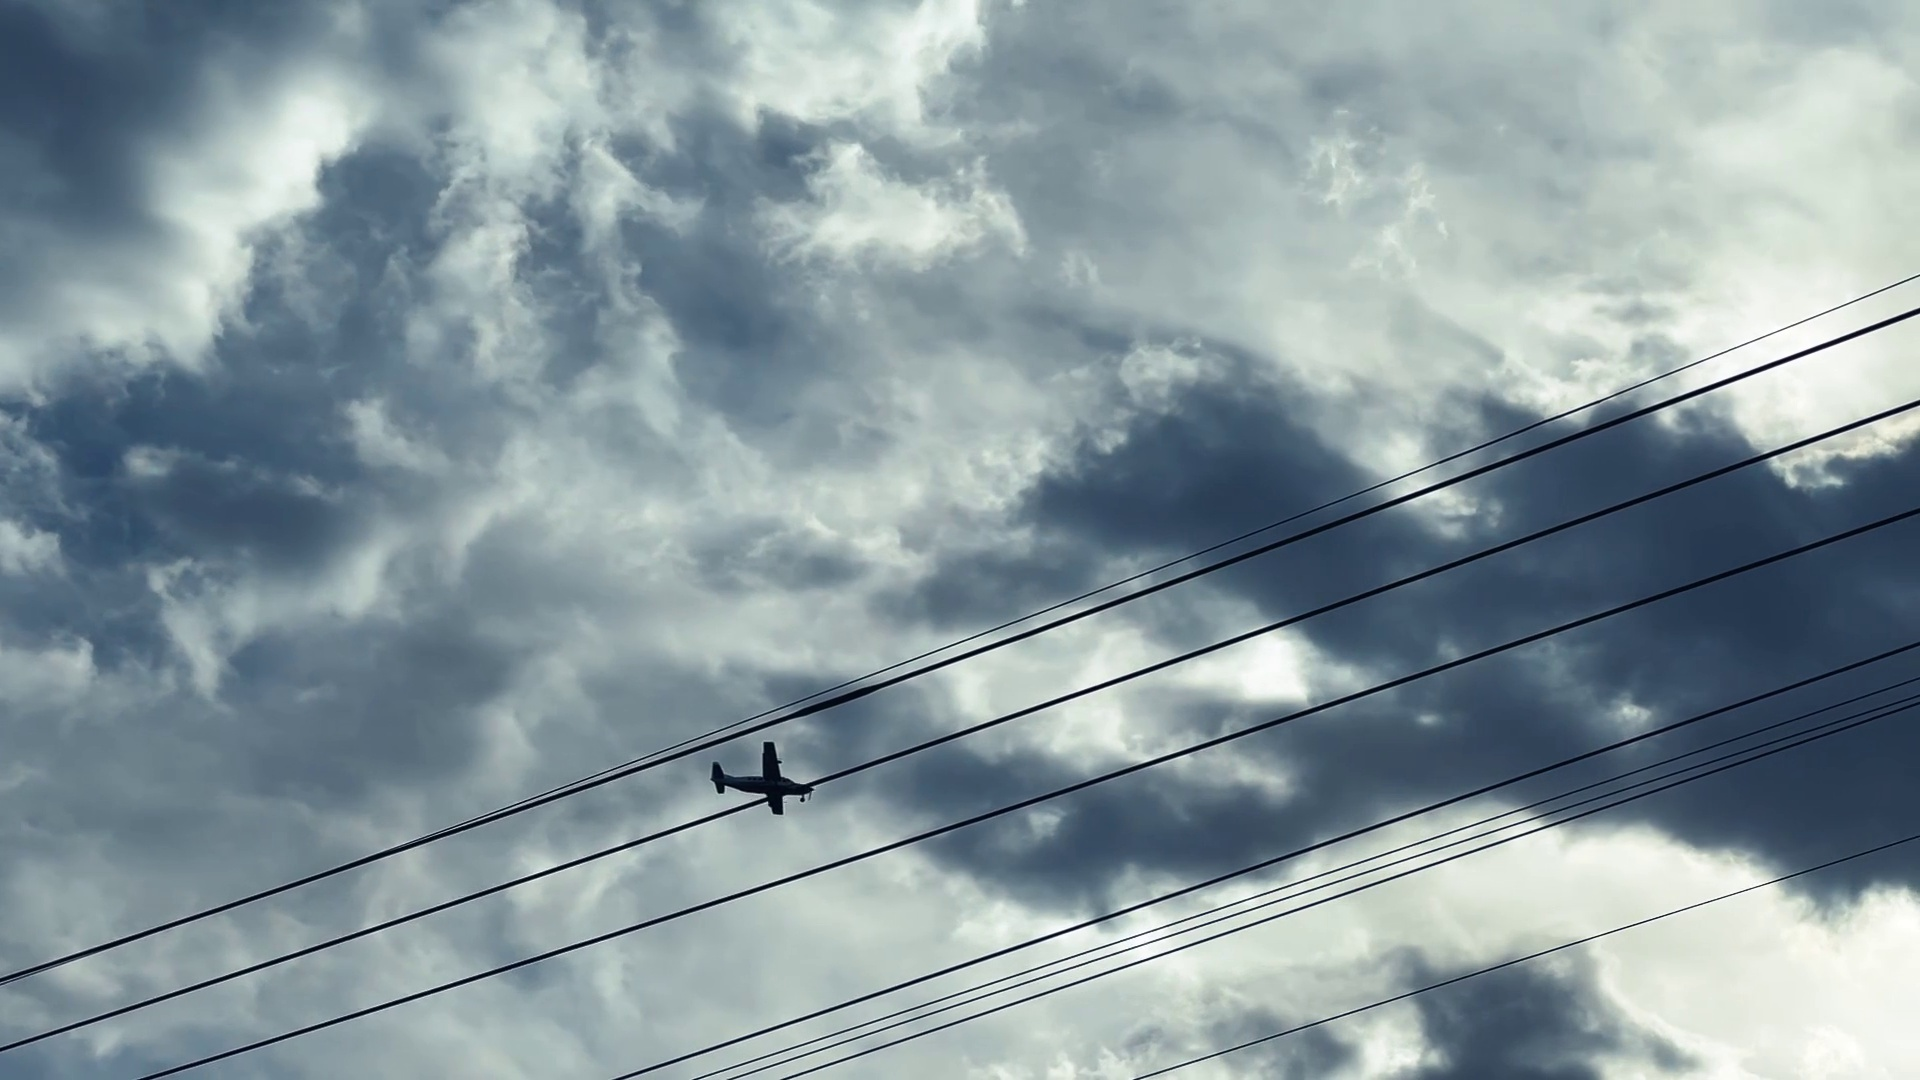plane: (709, 738, 814, 816)
